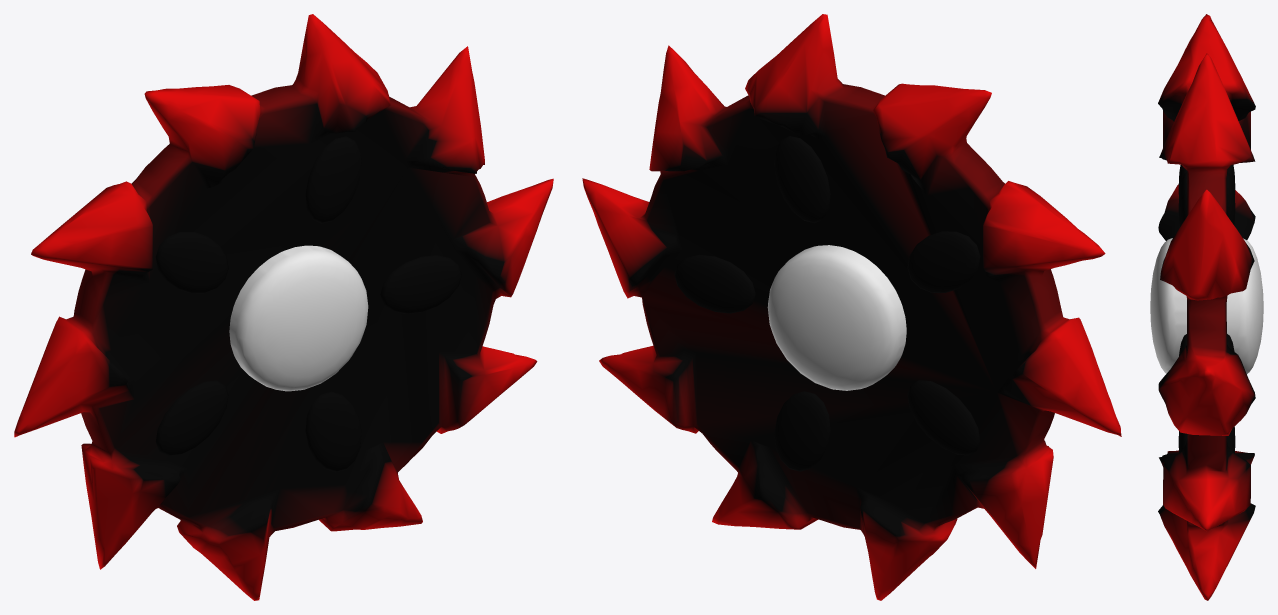
File: prop-saw.glb
3 views of the same model, side by side, from view 1: azimuth 30°, elevation 25°; view 2: azimuth 150°, elevation 25°; view 3: azimuth 270°, elevation 25° (orthographic). The views are drawn at different scales.
Visible parts, largest first — view 1: blade, wedges, hub; view 2: blade, wedges, hub; view 3: blade, hub, wedges.
Part boxes in pixels (box(x1,y1,x2,y2)): blade: box(14, 14, 553, 600); wedges: box(155, 136, 461, 472); hub: box(229, 245, 368, 391); blade: box(582, 14, 1121, 600); wedges: box(674, 136, 980, 471); hub: box(767, 245, 906, 390); blade: box(1158, 14, 1255, 600); hub: box(1150, 238, 1263, 373); wedges: box(1178, 164, 1235, 453).
Size of the model in its own units: 2.64 by 2.68 by 0.5195.
